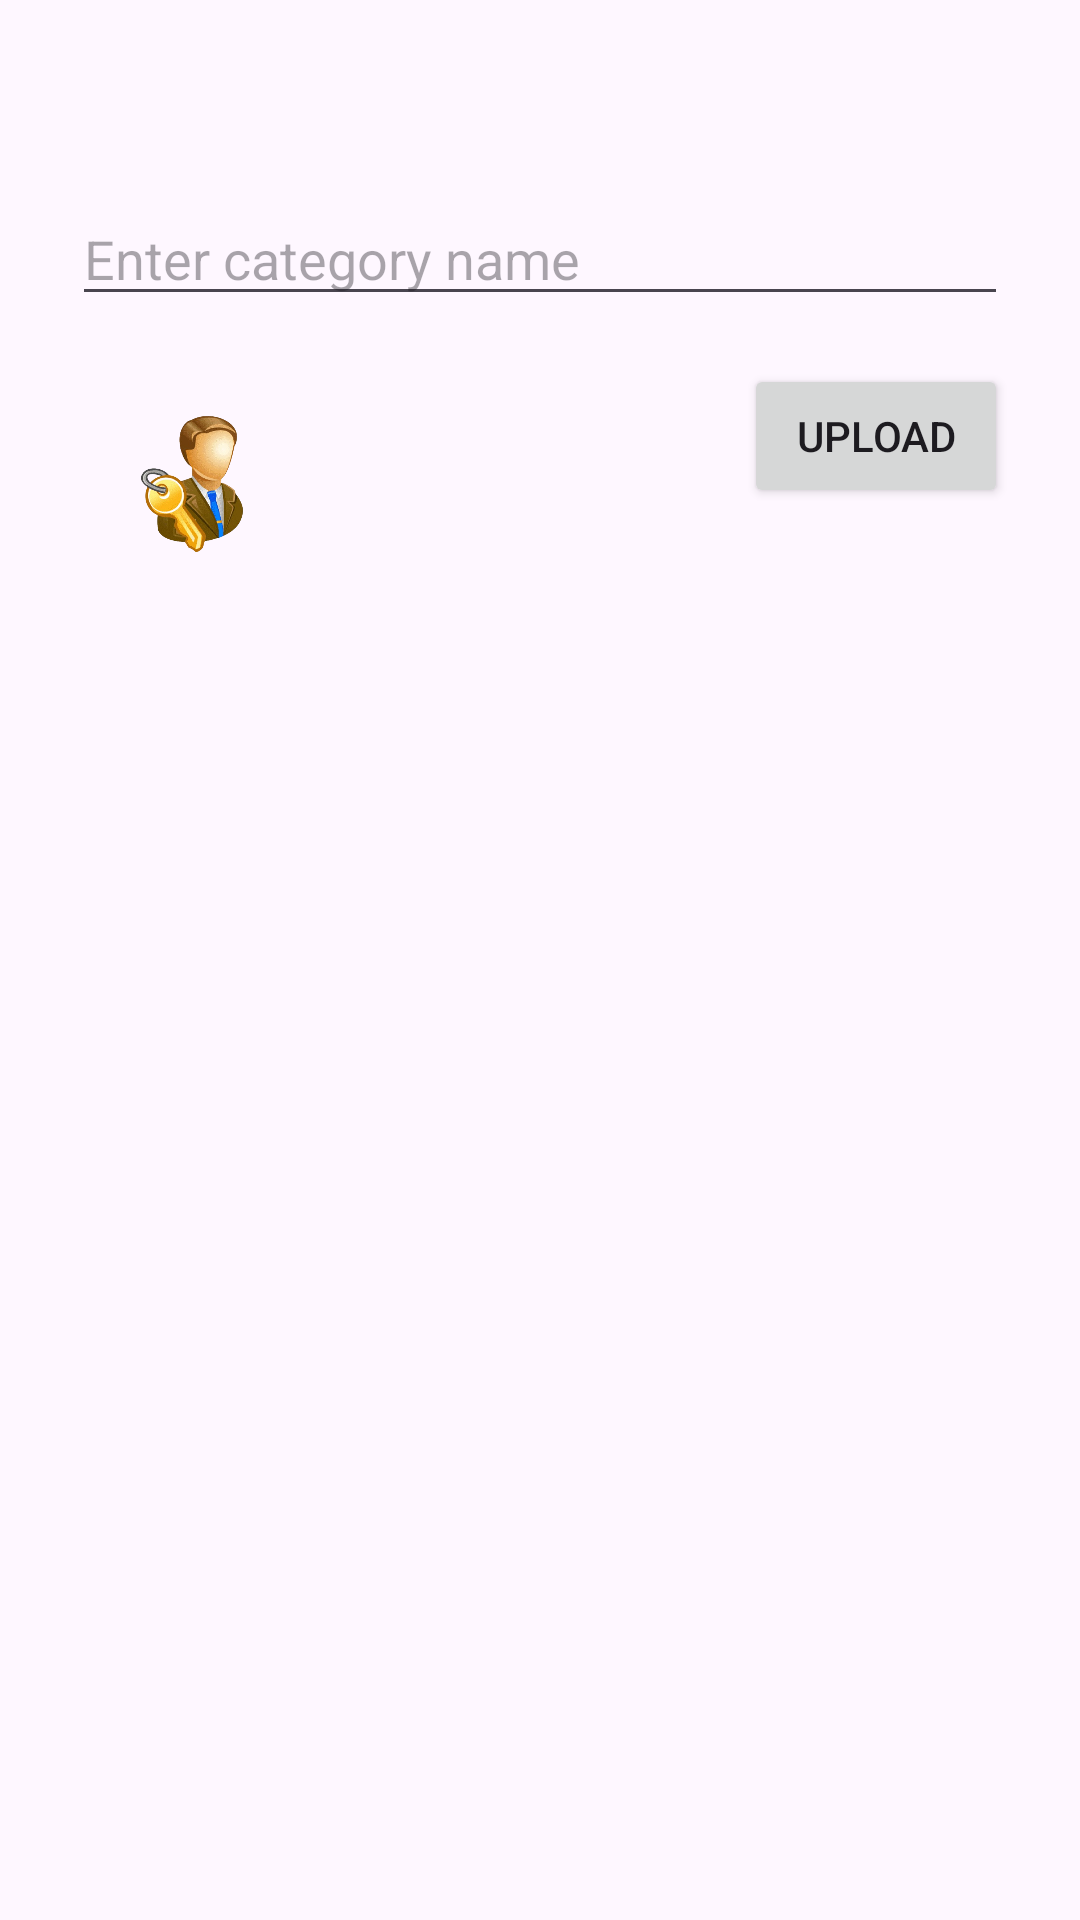

Where to tap for icons on this 1080×1920 app screen, as (x=x, y=y):
admin: (x=192, y=484)
